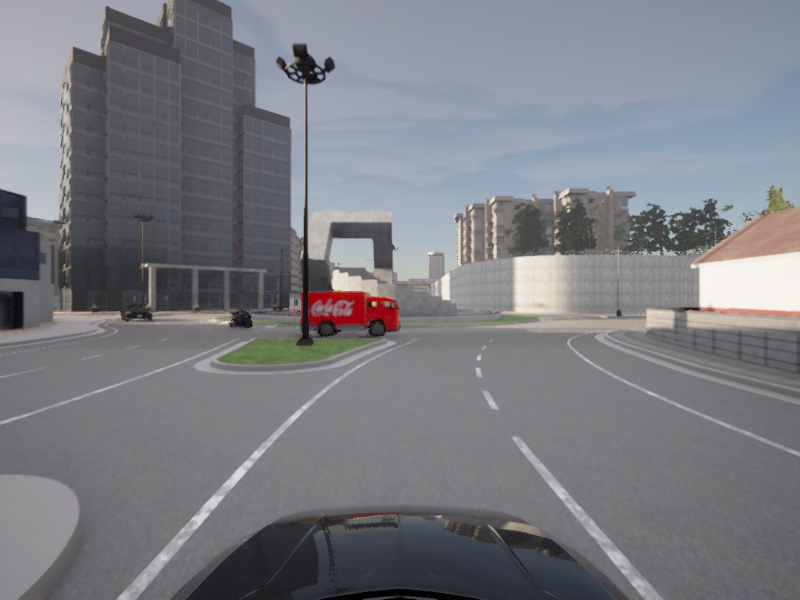vehicle: (299, 291, 400, 338), (224, 306, 257, 330), (120, 303, 154, 322)
